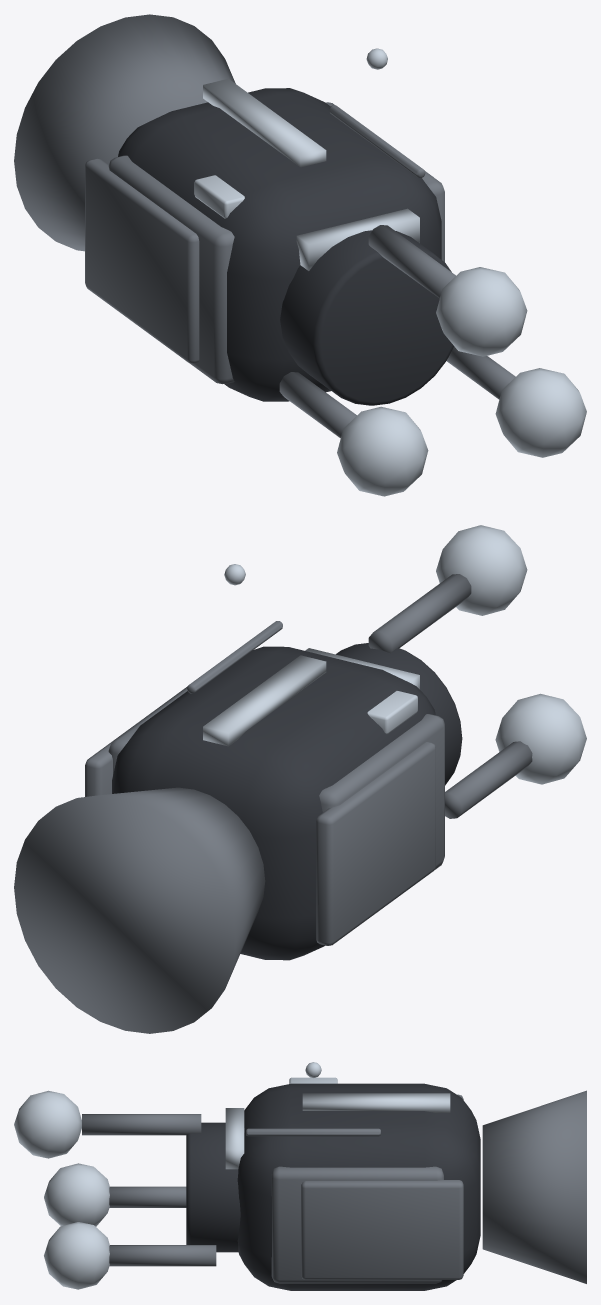
The model's file is weapon_drone_tachyon.glb.
The picture shows the model from 3 angles, top to bottom: view 1: azimuth 30°, elevation 25°; view 2: azimuth 150°, elevation 25°; view 3: azimuth 270°, elevation 25°; orthographic projection. The views are drawn at different scales.
Visible parts, largest first — view 1: weapon_drone_tachyon; view 2: weapon_drone_tachyon; view 3: weapon_drone_tachyon.
Part boxes in pixels (x1=…): weapon_drone_tachyon: x1=14, y1=14, x2=586, y2=496; weapon_drone_tachyon: x1=14, y1=525, x2=586, y2=1033; weapon_drone_tachyon: x1=14, y1=1062, x2=586, y2=1290.
Bounding box in the file's own units: 0.5808 × 0.7068 × 1.54.
